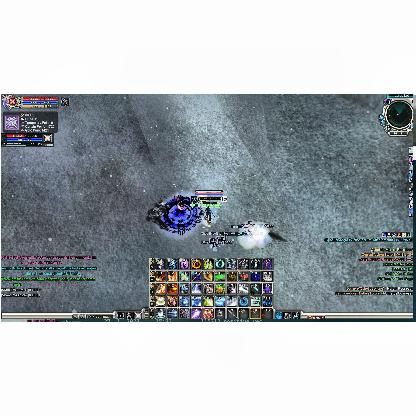caliana: (150, 200, 166, 228)
